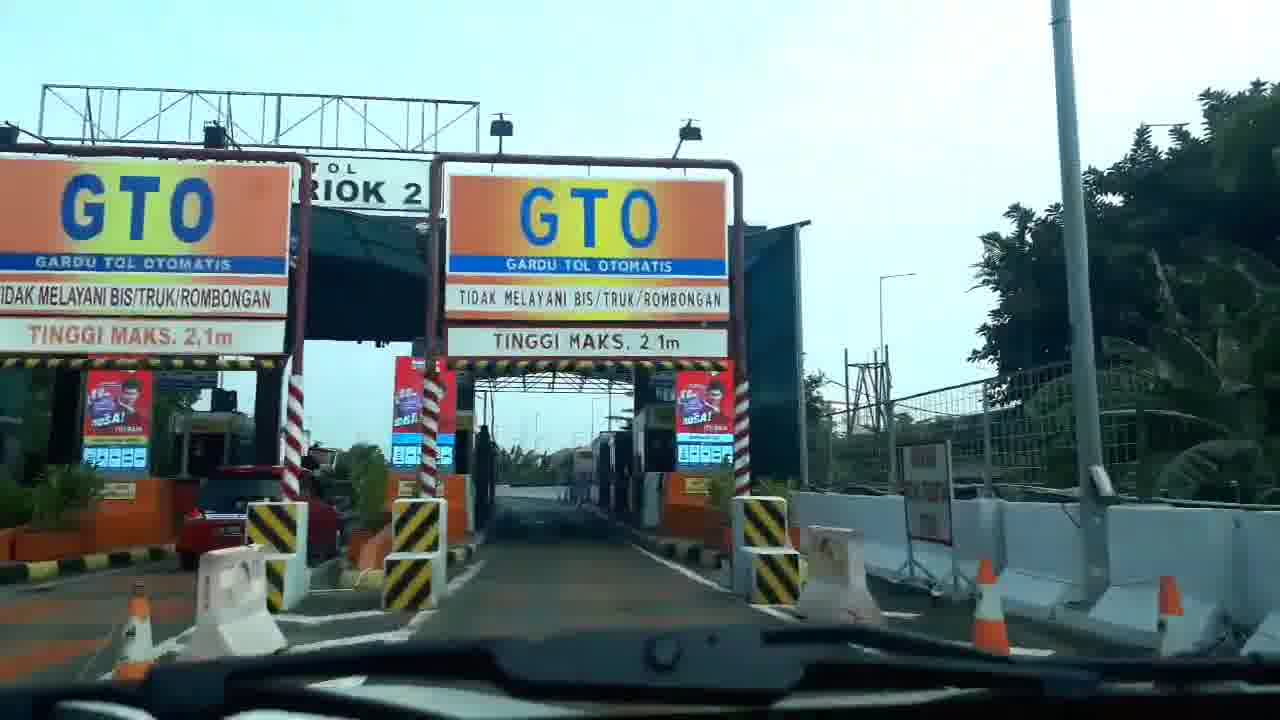plate_positive: (218, 524, 246, 537)
